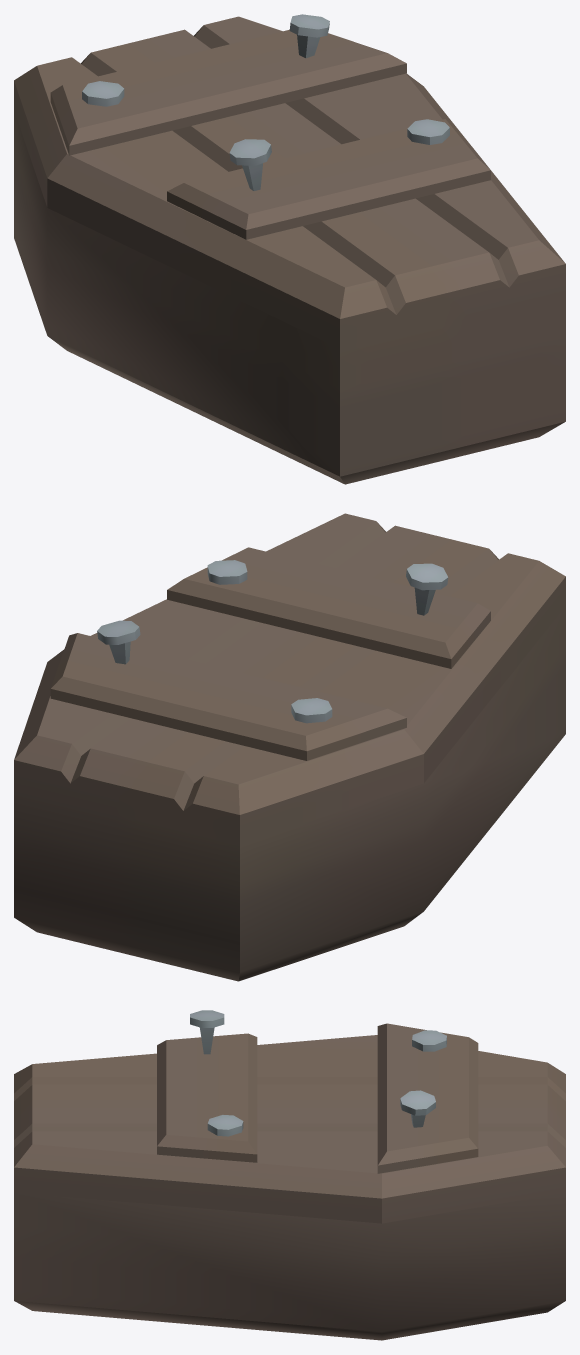
The model's file is kay-caixao.gltf.
3 renders of one model, top to bottom at view 1: azimuth 30°, elevation 25°; view 2: azimuth 150°, elevation 25°; view 3: azimuth 270°, elevation 25°, orthographic. The views are drawn at different scales.
Visible parts, largest first — view 1: coffin; view 2: coffin; view 3: coffin.
Boxes of the visible parts, x1,y1,x2,y2 form: coffin: (14,14,565,484); coffin: (14,513,565,981); coffin: (14,1010,565,1340).
Size of the model in its own units: 1 by 0.6613 by 1.5.
Materials: 1 (1 with a texture image).
